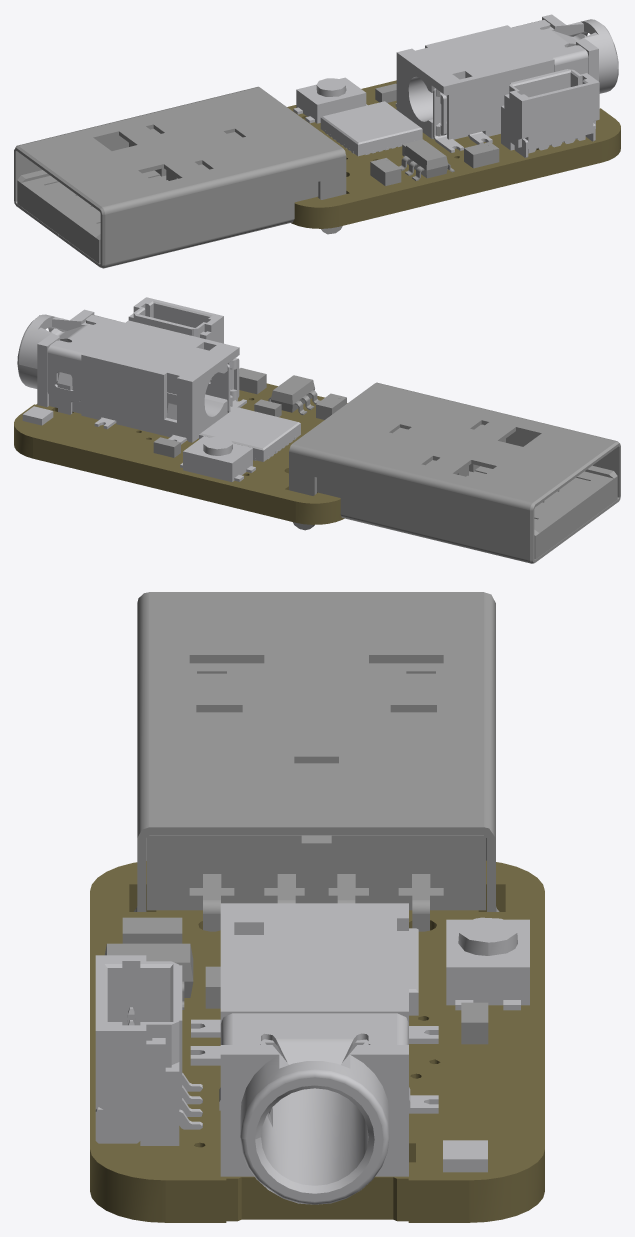
Rendered from ada-5954.glb.
3 renders of one model, top to bottom at view 1: azimuth 30°, elevation 25°; view 2: azimuth 150°, elevation 25°; view 3: azimuth 270°, elevation 25°, orthographic. The views are drawn at different scales.
Parts seen in each view (by area): view 1: 0.3333333333333333_0.3333333333333333_0.3333333333333333_0, 0.5833333333333334_0.5833333333333334_0.5833333333333334_0.8, 0.16666666666666666_0.16666666666666666_0.08333333333333333_; view 2: 0.3333333333333333_0.3333333333333333_0.3333333333333333_0, 0.5833333333333334_0.5833333333333334_0.5833333333333334_0.8, 0.16666666666666666_0.16666666666666666_0.08333333333333333_; view 3: 0.3333333333333333_0.3333333333333333_0.3333333333333333_0, 0.5833333333333334_0.5833333333333334_0.5833333333333334_0.8, 0.16666666666666666_0.16666666666666666_0.08333333333333333_.
Boxes of the visible parts, <box> form: 0.3333333333333333_0.3333333333333333_0.3333333333333333_0: <box>14,83,499,268</box>; 0.5833333333333334_0.5833333333333334_0.5833333333333334_0.8: <box>293,14,618,157</box>; 0.16666666666666666_0.16666666666666666_0.08333333333333333_: <box>287,80,620,228</box>; 0.3333333333333333_0.3333333333333333_0.3333333333333333_0: <box>153,368,620,563</box>; 0.5833333333333334_0.5833333333333334_0.5833333333333334_0.8: <box>17,297,300,482</box>; 0.16666666666666666_0.16666666666666666_0.08333333333333333_: <box>14,383,347,524</box>; 0.3333333333333333_0.3333333333333333_0.3333333333333333_0: <box>105,592,499,1044</box>; 0.5833333333333334_0.5833333333333334_0.5833333333333334_0.8: <box>95,903,529,1204</box>; 0.16666666666666666_0.16666666666666666_0.08333333333333333_: <box>90,860,544,1222</box>.
Size of the model in its own units: 4.19 by 0.7698 by 1.52.
